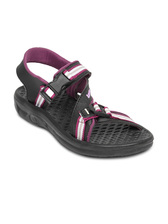shoes: (8, 48, 155, 162)
